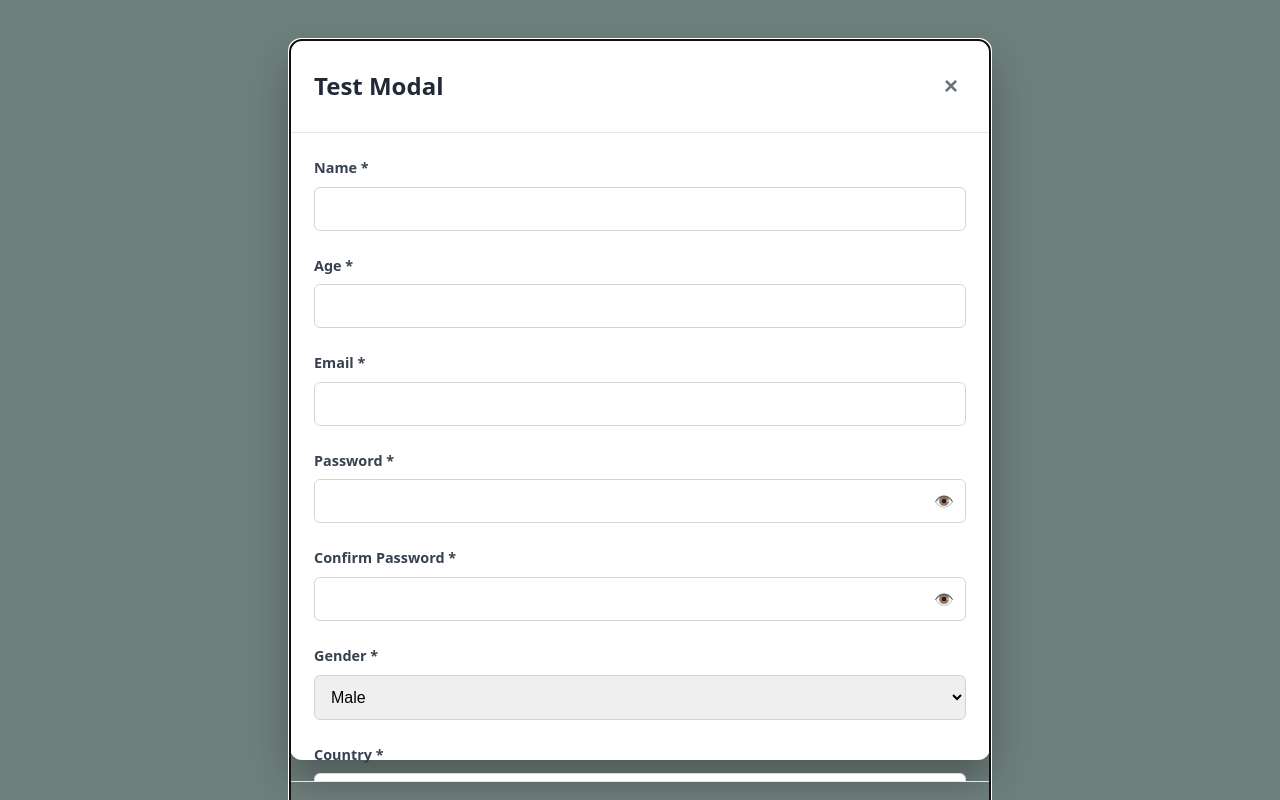
Test: ReactHookForm Component › Field Validation › should validate email field correctly
Type "invalid-email" into the field labelled "Email *" at (640, 404), box x1=314 y1=382 x2=966 y2=426
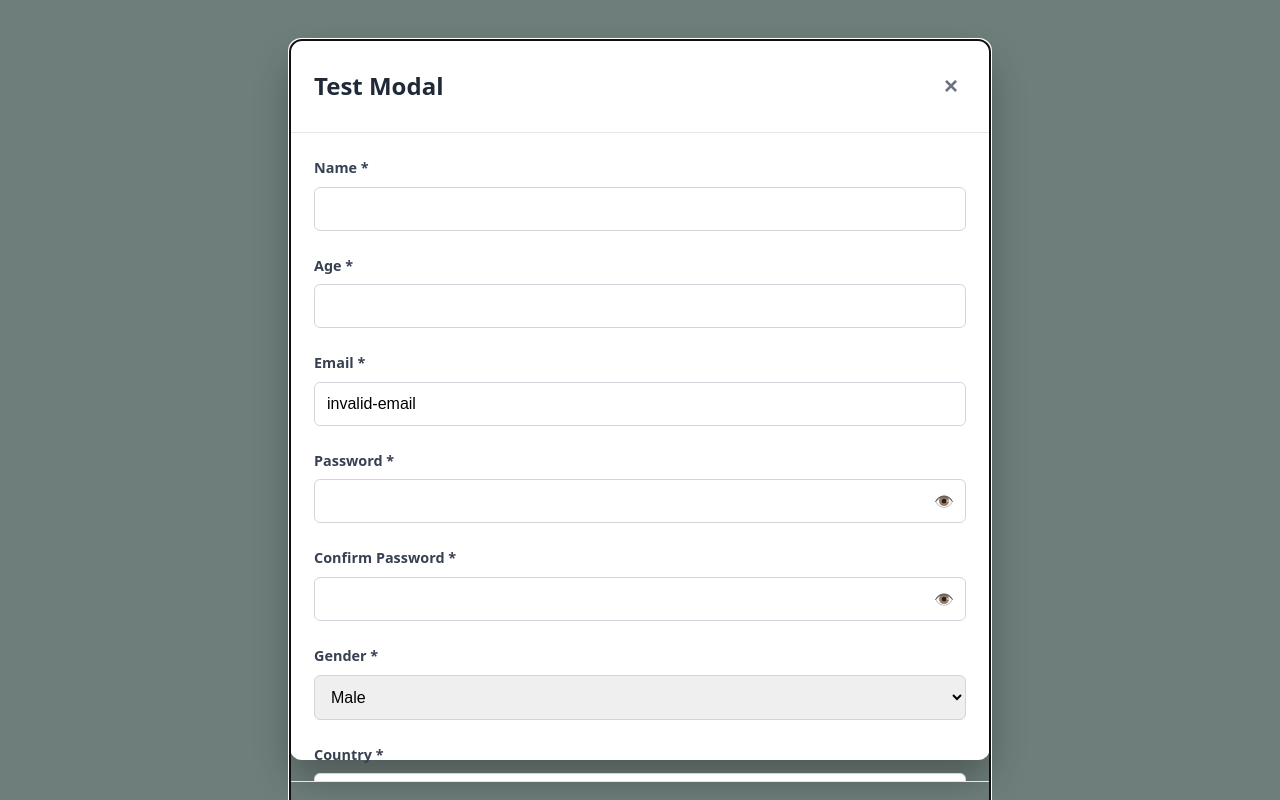
Leave the field labelled "Email *", box x1=314 y1=382 x2=966 y2=426
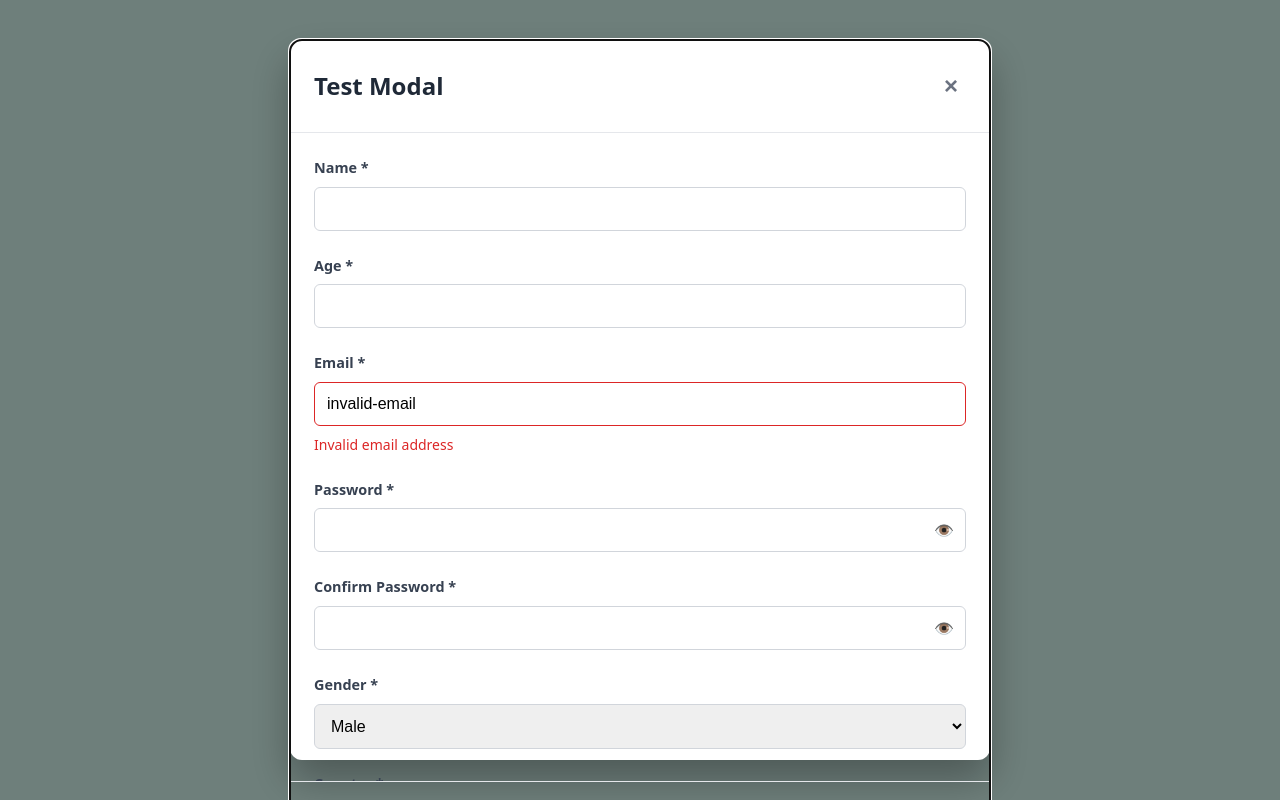
Expected: the text "Invalid email address" is shown, x1=314 y1=435 x2=453 y2=454
Replace the text in the field labelled "Email *" with "test@example.com" at (640, 404), box x1=314 y1=382 x2=966 y2=426
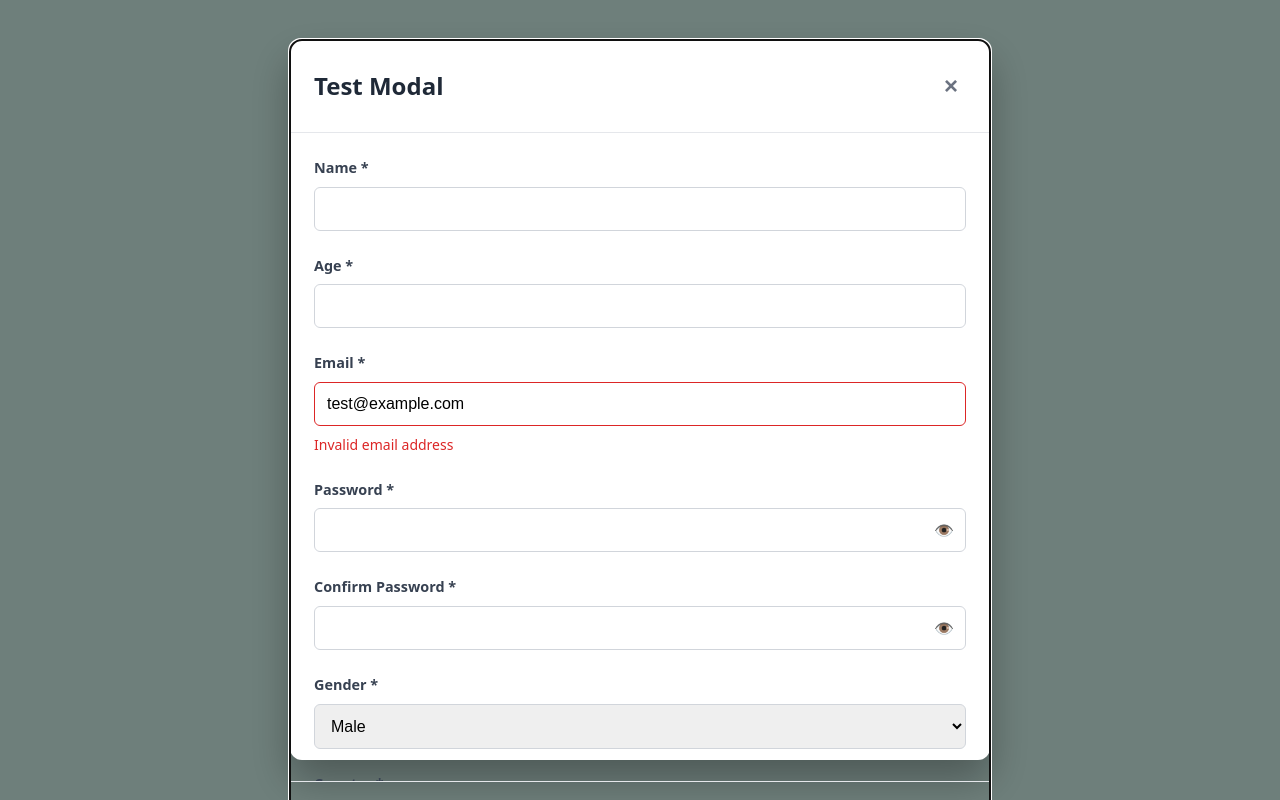
Leave the field labelled "Email *", box x1=314 y1=382 x2=966 y2=426
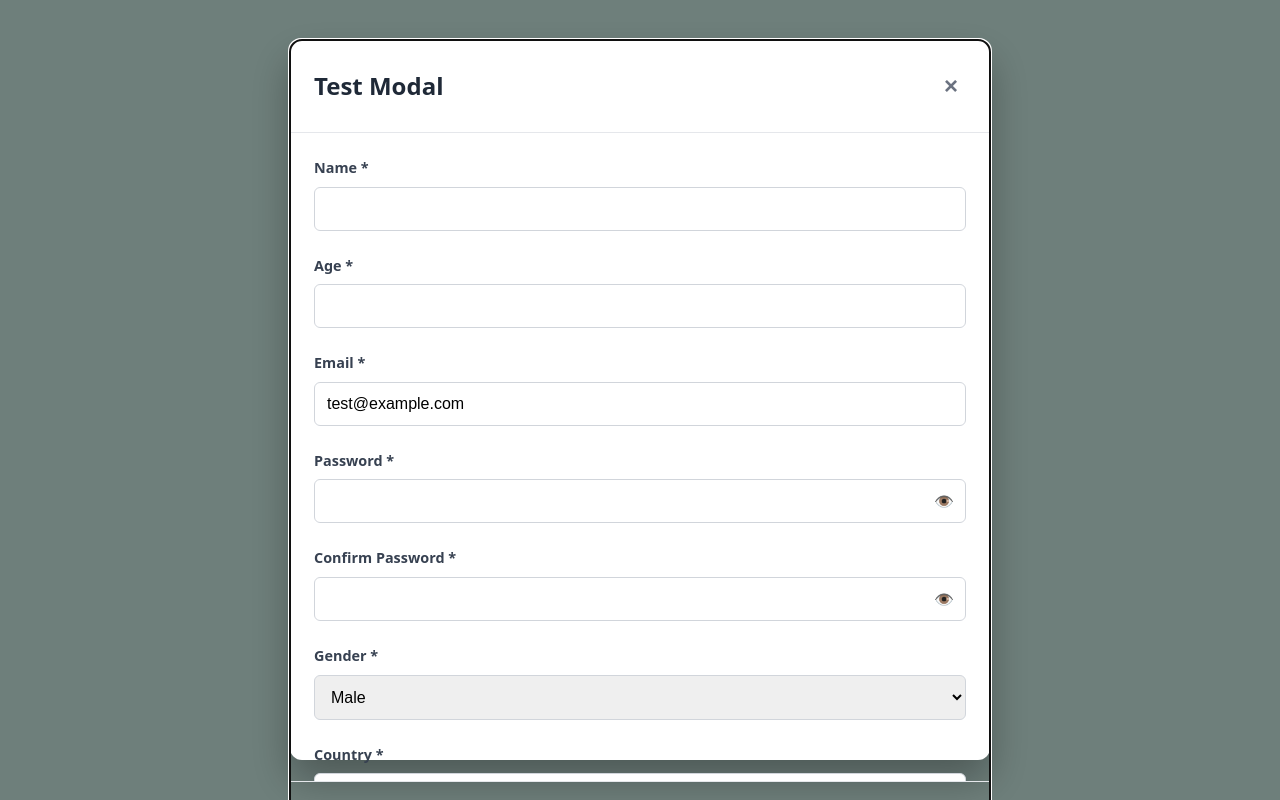
Expected: the text "Invalid email address" is gone
